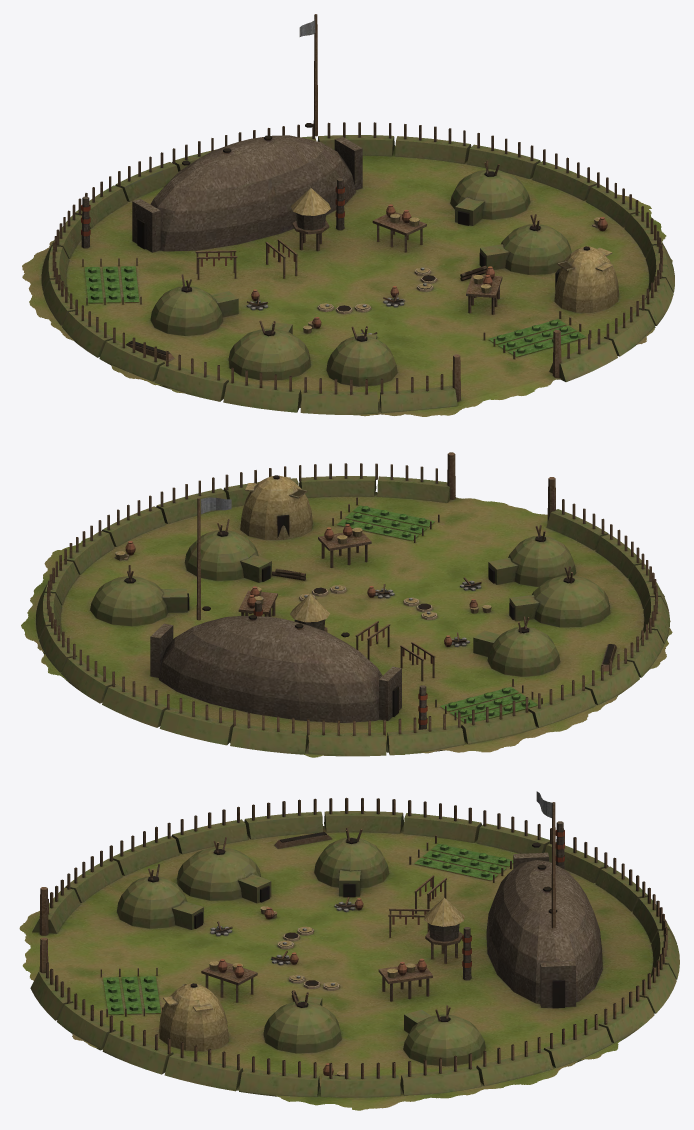
The model's file is stone-town-small-b-americas.glb.
The picture shows the model from 3 angles, top to bottom: view 1: azimuth 30°, elevation 25°; view 2: azimuth 150°, elevation 25°; view 3: azimuth 270°, elevation 25°; orthographic projection. The views are drawn at different scales.
Parts seen in each view (by area): view 1: LOD0; view 2: LOD0; view 3: LOD0.
Part boxes in pixels (bbox=[...]): LOD0: bbox=[22, 14, 674, 416]; LOD0: bbox=[21, 452, 672, 757]; LOD0: bbox=[19, 791, 679, 1110].
Size of what is drawn, in the model's own units: 4.01 by 1.2 by 3.82.
Materials: 3 (3 with a texture image).
